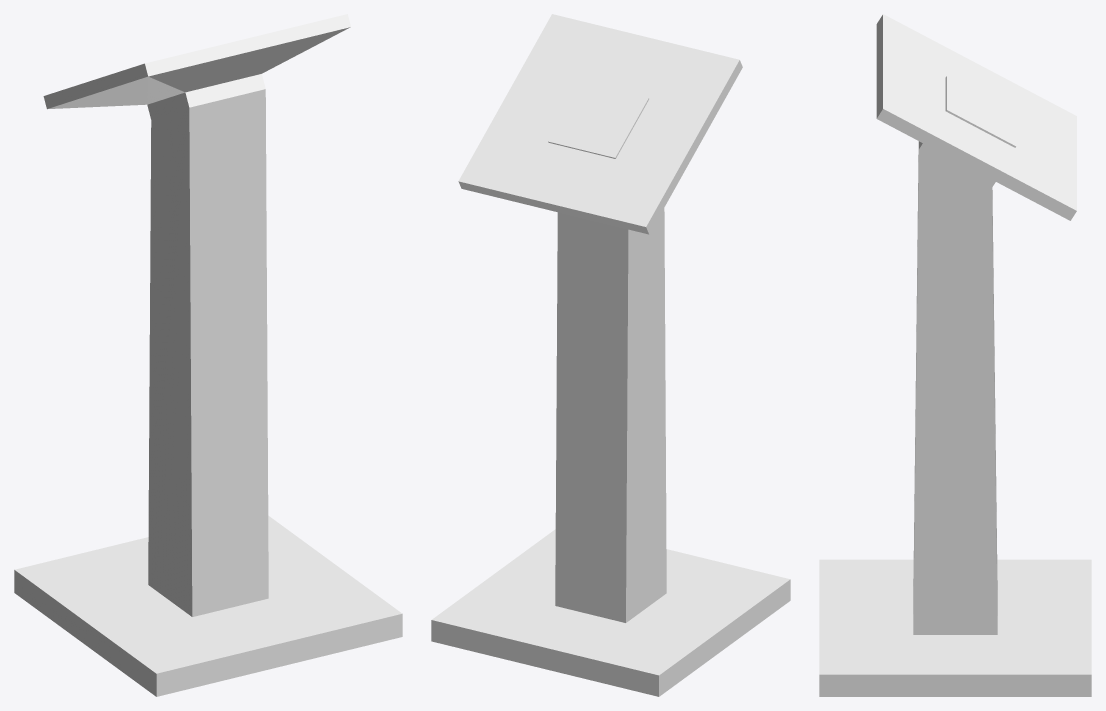
Rendered from Call_Lift_Panel_Mrt.fbx.
3 renders of one model, left to right at view 1: azimuth 30°, elevation 25°; view 2: azimuth 150°, elevation 25°; view 3: azimuth 270°, elevation 25°, orthographic. The views are drawn at different scales.
Parts seen in each view (by area): view 1: Call_Lift_Panel; view 2: Call_Lift_Panel, Call_Lift_Button; view 3: Call_Lift_Panel, Call_Lift_Button.
Boxes of the visible parts, <box> form: Call_Lift_Panel: <box>14,14,402,696</box>; Call_Lift_Panel: <box>431,14,790,696</box>; Call_Lift_Button: <box>548,81,648,158</box>; Call_Lift_Panel: <box>819,14,1091,696</box>; Call_Lift_Button: <box>945,76,1016,147</box>.
Bounding box in the file's own units: 54.47 × 128 × 54.47.
